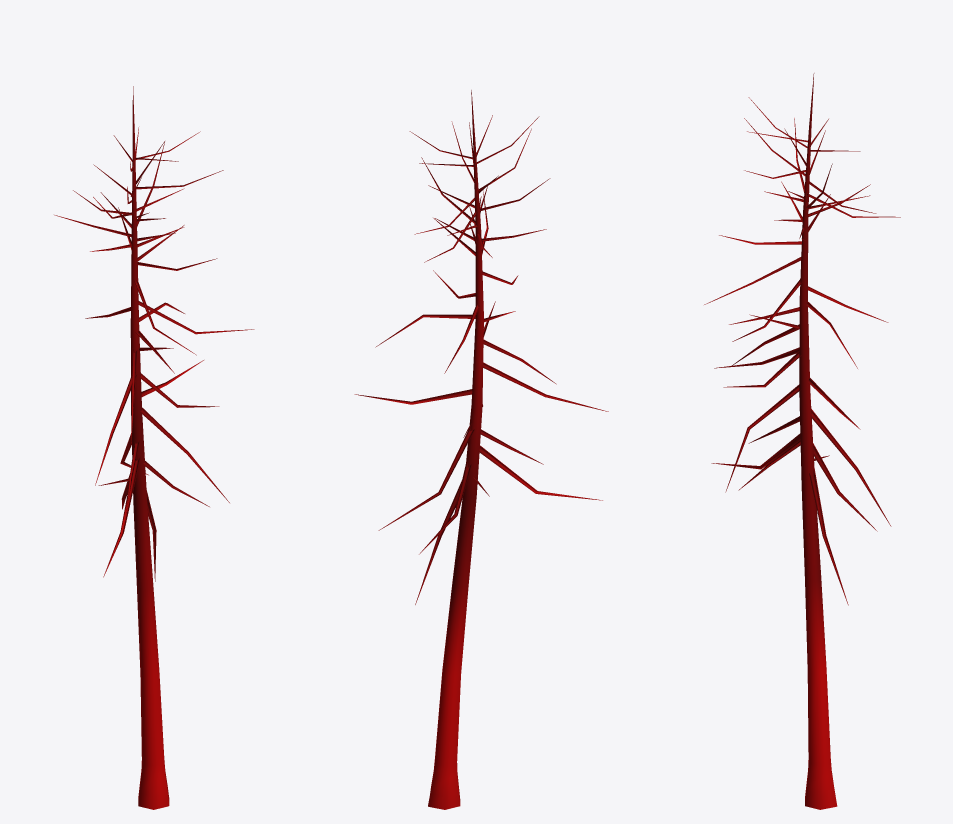
The model's file is pine_b_lod2.glb.
The picture shows the model from 3 angles, left to right: view 1: azimuth 30°, elevation 25°; view 2: azimuth 150°, elevation 25°; view 3: azimuth 270°, elevation 25°; orthographic projection.
Parts seen in each view (by area): view 1: pine_b_LOD2; view 2: pine_b_LOD2; view 3: pine_b_LOD2.
Part boxes in pixels (x1=…): pine_b_LOD2: x1=54, y1=86, x2=254, y2=809; pine_b_LOD2: x1=354, y1=90, x2=608, y2=809; pine_b_LOD2: x1=704, y1=73, x2=900, y2=809.
Bounding box in the file's own units: 10.57 × 30.53 × 9.83.
